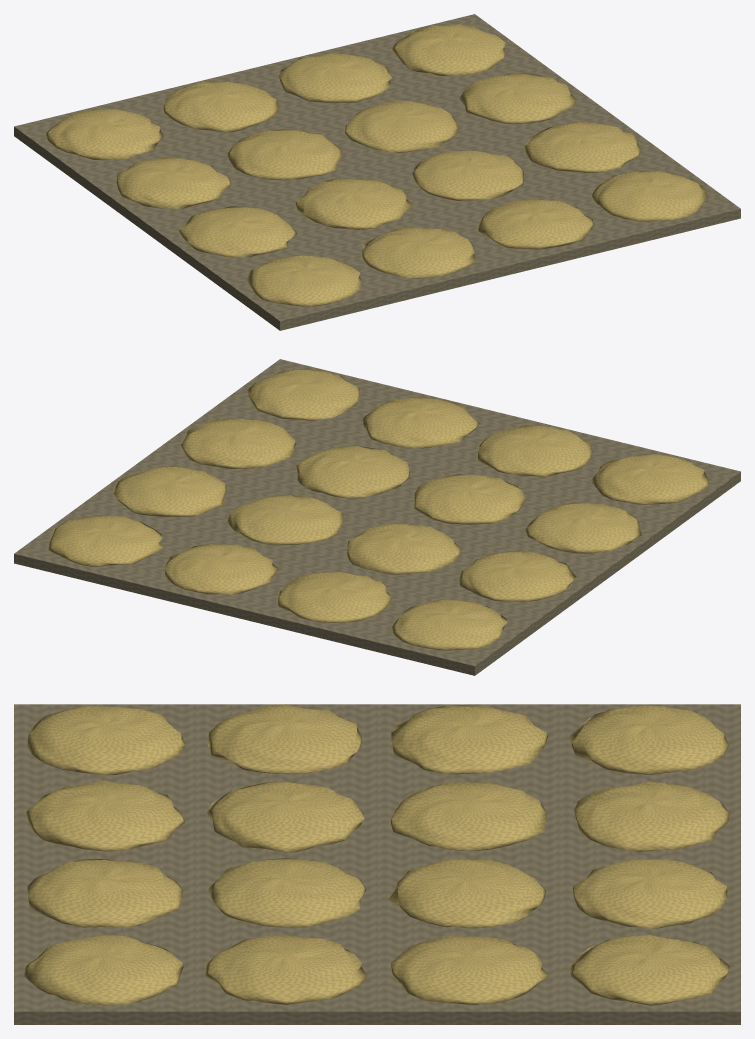
File: cracked_mud_flat_tile_swamp_and_mangrove_22642.glb
3 renders of one model, top to bottom at view 1: azimuth 30°, elevation 25°; view 2: azimuth 150°, elevation 25°; view 3: azimuth 270°, elevation 25°, orthographic. The views are drawn at different scales.
Parts seen in each view (by area): view 1: cracked-mud-tile; view 2: cracked-mud-tile; view 3: cracked-mud-tile.
Part boxes in pixels (left/top/right/bottom): cracked-mud-tile: left=14, top=14, right=740, bottom=330; cracked-mud-tile: left=14, top=359, right=740, bottom=675; cracked-mud-tile: left=14, top=704, right=740, bottom=1024.
Size of the model in its own units: 4 by 0.1962 by 4.
Materials: 2 (2 with a texture image).
